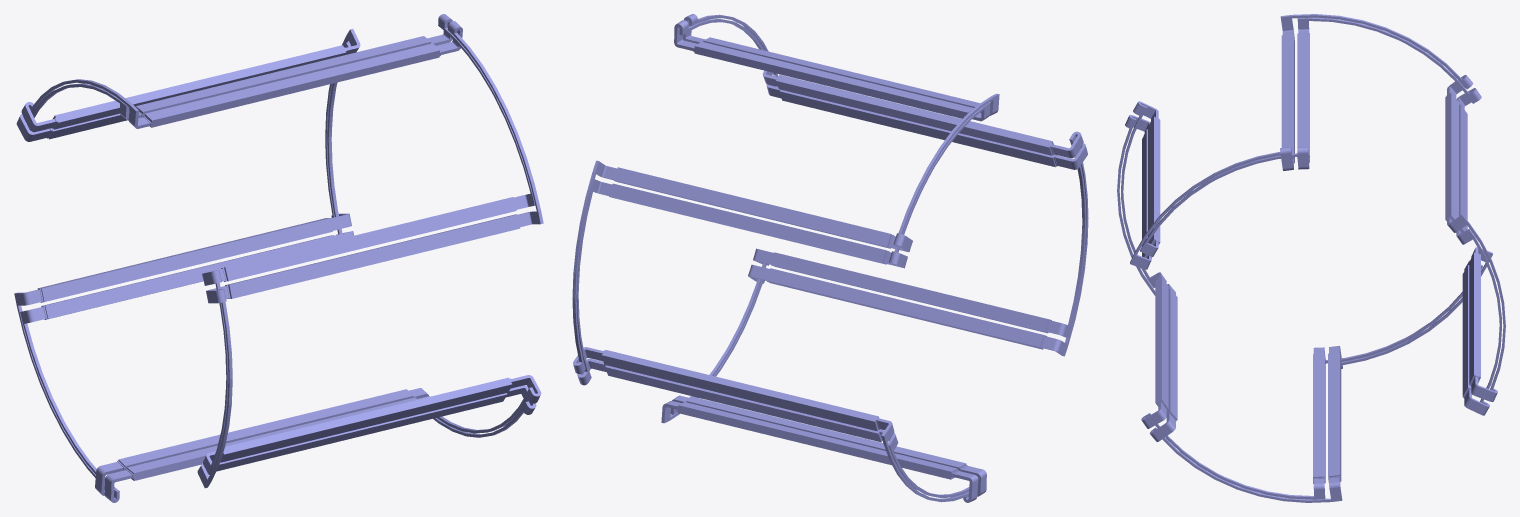
File: PhaseA1.glb
The picture shows the model from 3 angles, left to right: view 1: azimuth 30°, elevation 25°; view 2: azimuth 150°, elevation 25°; view 3: azimuth 270°, elevation 25°; orthographic projection. The views are drawn at different scales.
Parts seen in each view (by area): view 1: Phase A1; view 2: Phase A1; view 3: Phase A1.
Part boxes in pixels (x1=…): Phase A1: x1=14, y1=14, x2=543, y2=502; Phase A1: x1=572, y1=14, x2=1088, y2=502; Phase A1: x1=1117, y1=14, x2=1505, y2=502.
Size of the model in its own units: 0.5308 by 0.6296 by 0.6162.
